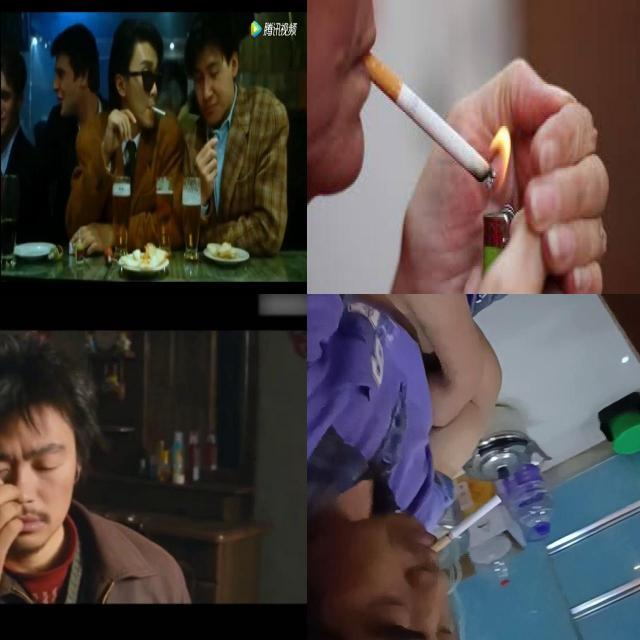smoke: (359, 51, 496, 188), (430, 494, 502, 552), (151, 104, 167, 118)
